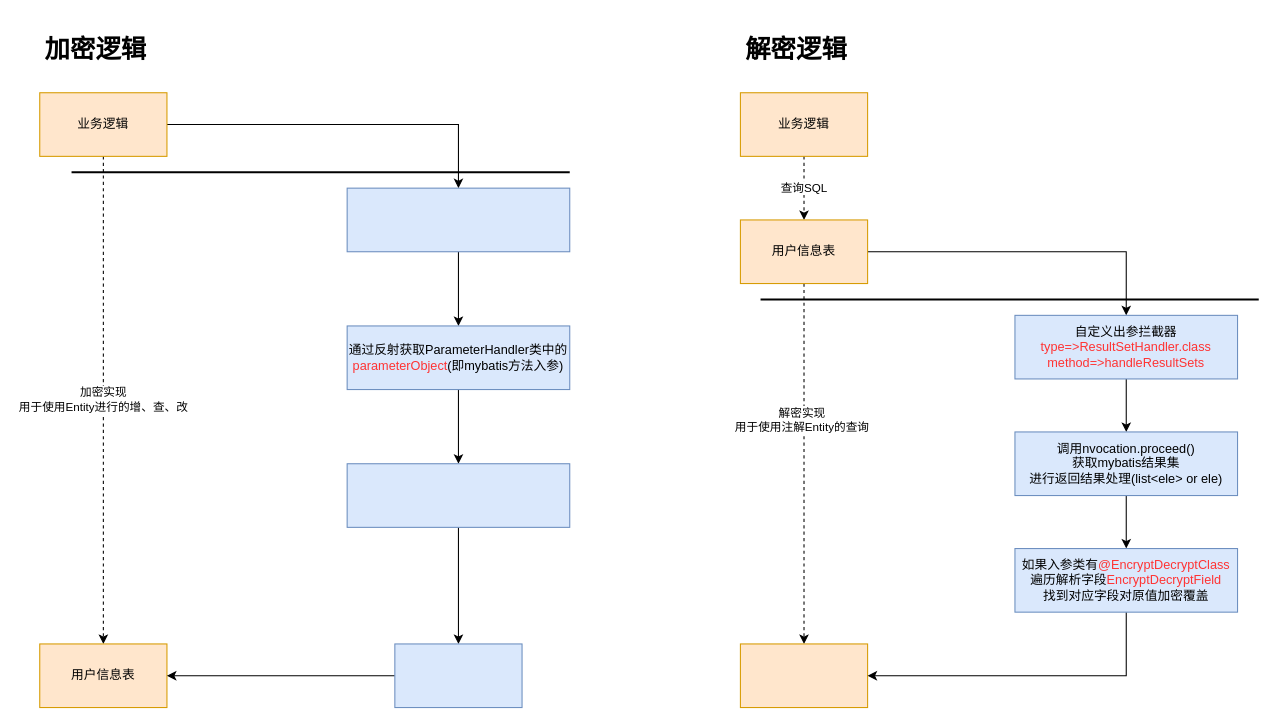
Some shapes in this 1277 by 726 pixel diagram are drawn without their labels. The shapes that lost their labels are listed below. From the top down, each one's centre as x and y in pixels, then its label:
At (458,219): "自定义入参拦截器 type=>ParameterHandler.class method=>setParameters".
At (458,495): "如果入参类有 @EncryptDecryptClass 遍历解析字段 @EncryptDecryptField 找到对应字段对原值加密覆盖".
At (458,675): "Mybatis其他逻辑执行".
At (803,675): "结果数据".
